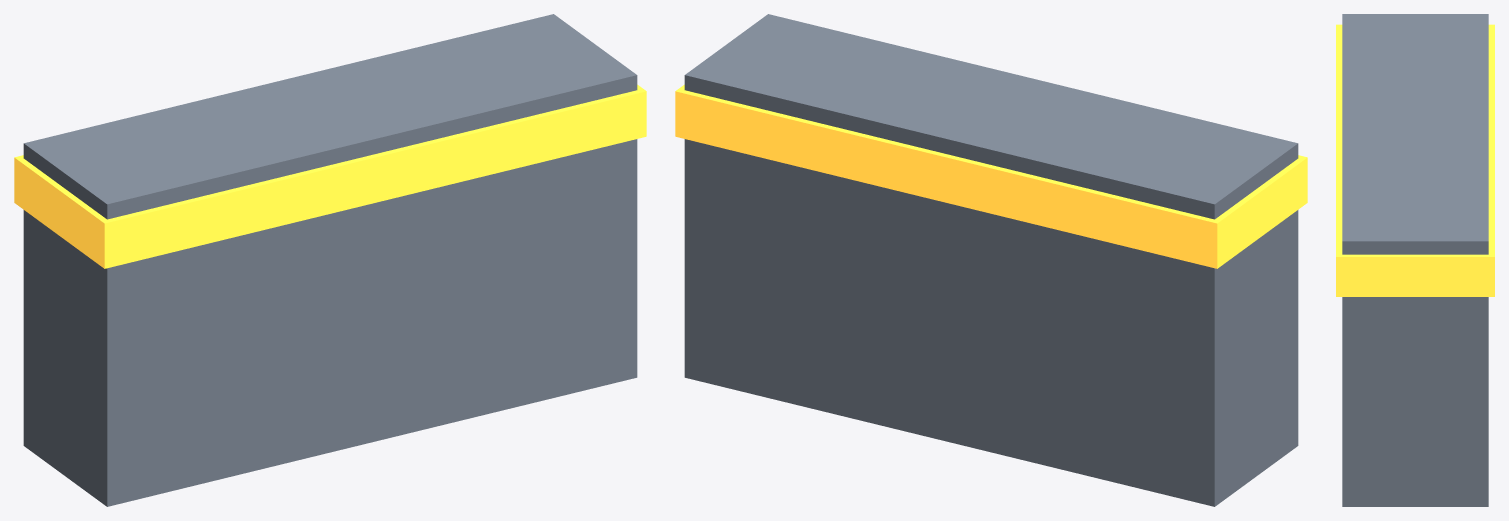
Rendered from barrier.glb.
3 renders of one model, left to right at view 1: azimuth 30°, elevation 25°; view 2: azimuth 150°, elevation 25°; view 3: azimuth 270°, elevation 25°, orthographic. The views are drawn at different scales.
Parts seen in each view (by area): view 1: BarrierBody, BarrierStripe; view 2: BarrierBody, BarrierStripe; view 3: BarrierBody, BarrierStripe.
Part boxes in pixels (left/top/right/bottom): BarrierBody: left=23, top=14, right=637, bottom=506; BarrierStripe: left=14, top=84, right=646, bottom=268; BarrierBody: left=684, top=14, right=1298, bottom=506; BarrierStripe: left=675, top=84, right=1307, bottom=268; BarrierBody: left=1342, top=14, right=1488, bottom=506; BarrierStripe: left=1336, top=24, right=1494, bottom=296.
Size of the model in its own units: 4.5 by 2.4 by 1.3.
